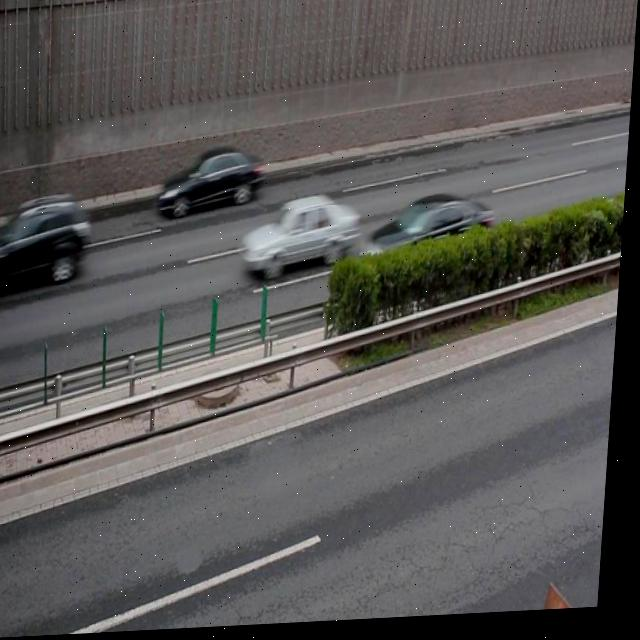car: (243, 195, 366, 282), (364, 195, 496, 273), (0, 193, 93, 297), (162, 149, 265, 218)
